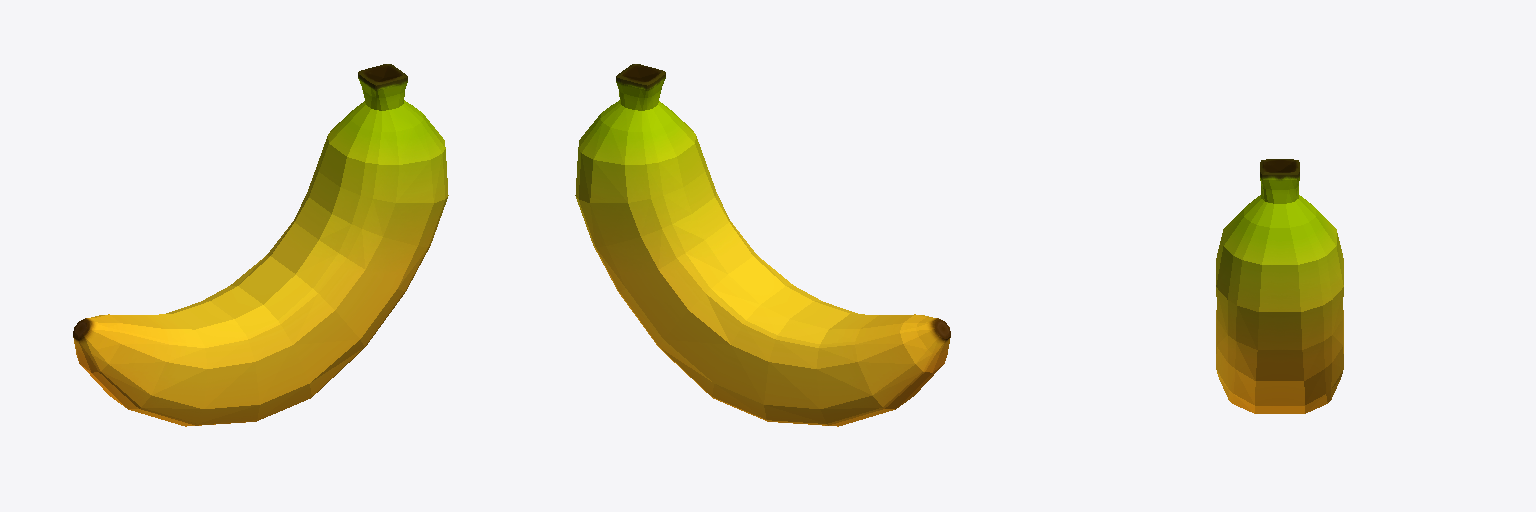
The picture shows the model from 3 angles: view 1: azimuth 30°, elevation 25°; view 2: azimuth 150°, elevation 25°; view 3: azimuth 270°, elevation 25°; orthographic projection.
Parts seen in each view (by area): view 1: Banana; view 2: Banana; view 3: Banana.
Boxes of the visible parts, <box> form: Banana: <box>73,64,448,426</box>; Banana: <box>575,64,950,426</box>; Banana: <box>1216,159,1343,413</box>.
Size of the model in its own units: 101 by 81.29 by 30.91.
1 materials, 1 textured.